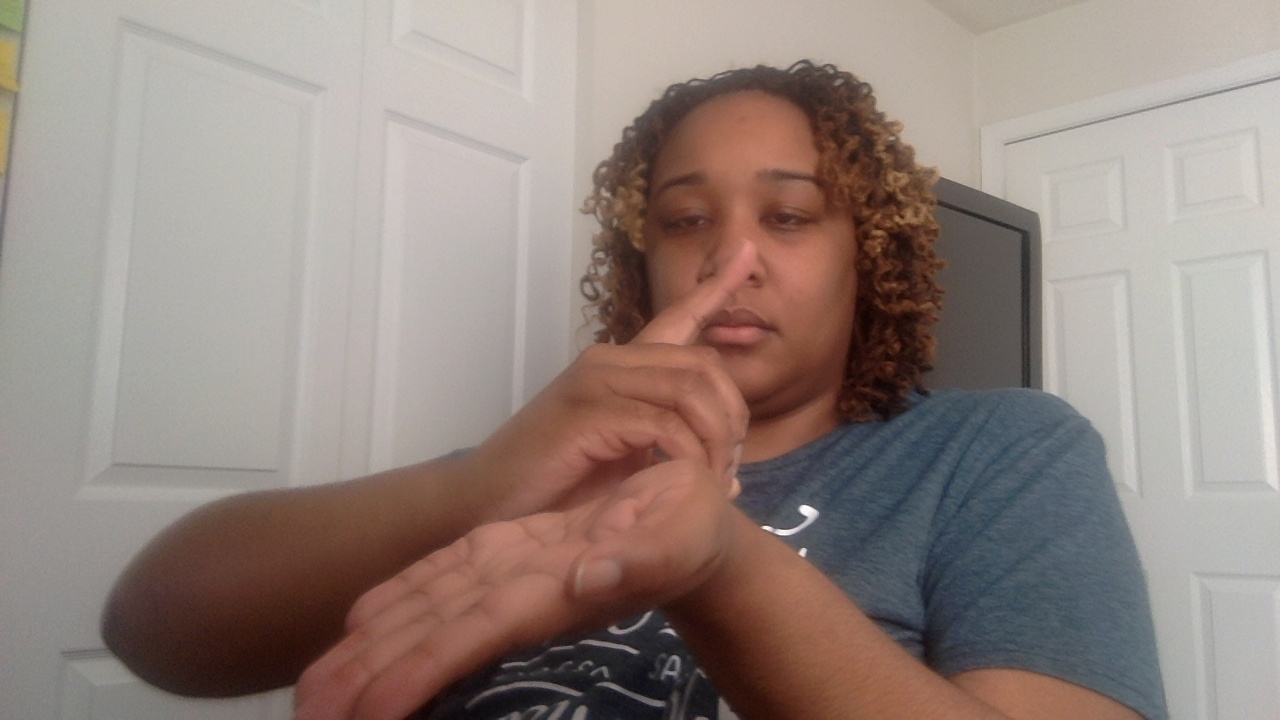doctor: (292, 236, 763, 720)
